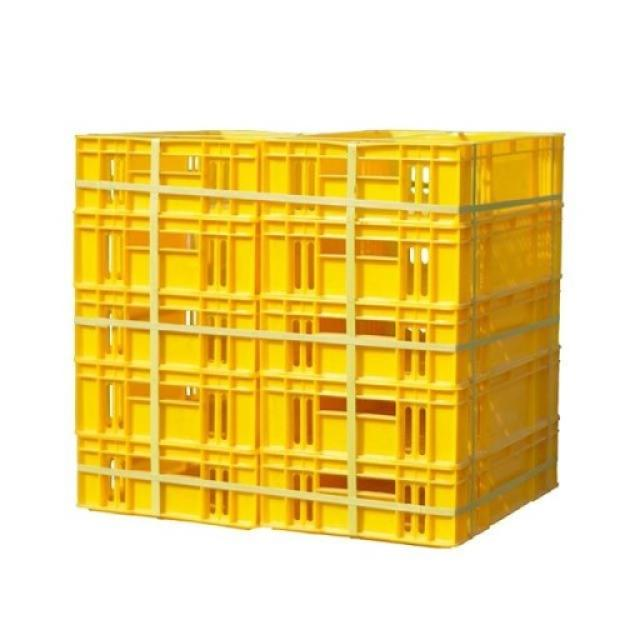basket: (68, 123, 565, 549)
